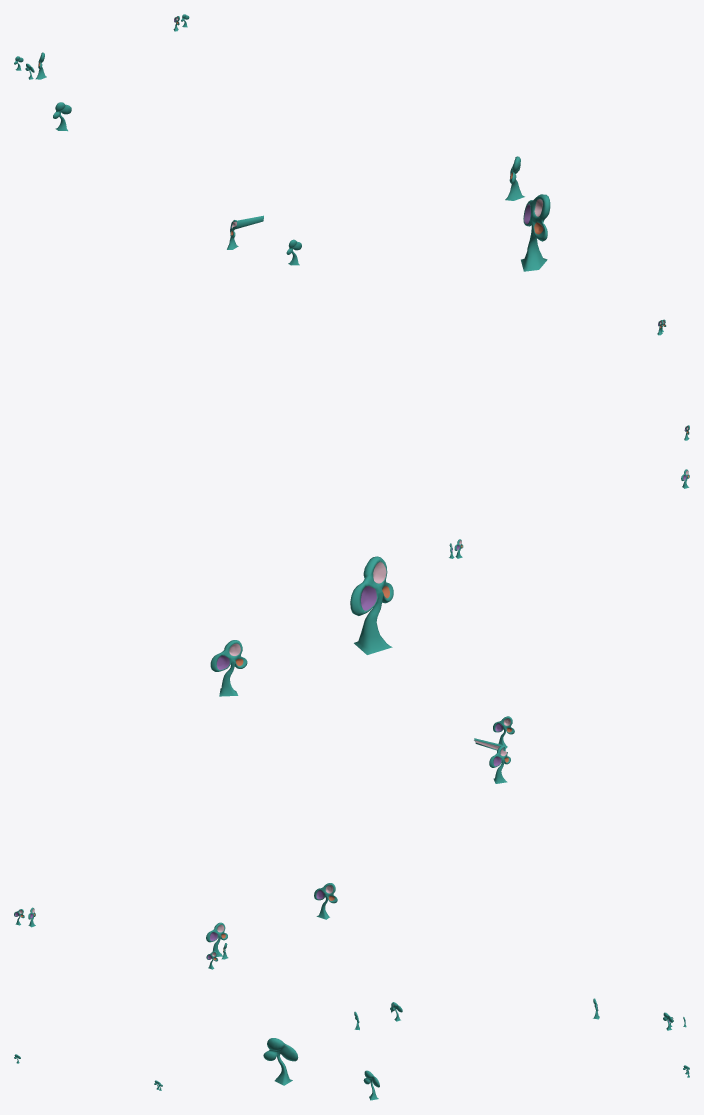
The model's file is plantH.fbx.
3 views of the same model, one above another, from view 1: azimuth 30°, elevation 25°; view 2: azimuth 150°, elevation 25°; view 3: azimuth 270°, elevation 25° (orthographic). The views are drawn at different scales.
Visible parts, largest first — view 1: plantH; view 2: plantH; view 3: plantH.
Part boxes in pixels (x1,y1,x2,y2): plantH: (14,14,689,440); plantH: (14,469,689,969); plantH: (14,998,689,1100).
Bounding box in the file's own units: 1255 × 307 × 4140.
